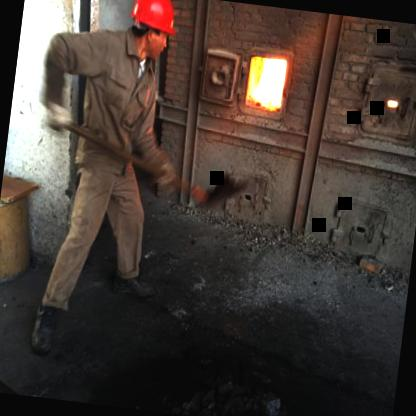helmet: (120, 0, 181, 66)
